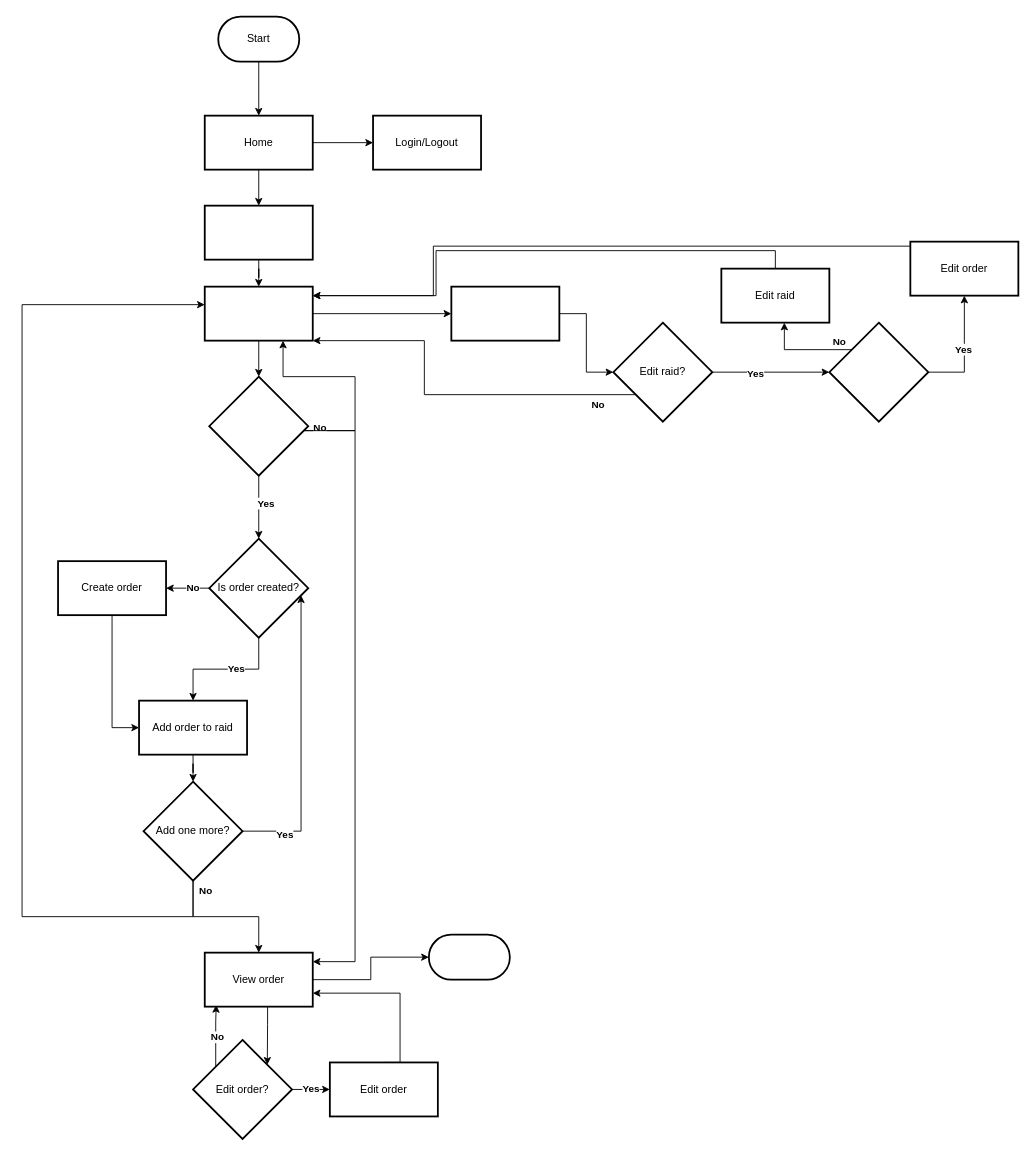
Some shapes in this 1035 by 1155 pixel diagram are drawn without their labels. Each missing label, with the centre of its shape:
"Add order to raid?" goes at (x=258, y=425).
"Edit order in raid?" goes at (x=878, y=371).
"End" goes at (x=469, y=956).
"Start raid" goes at (x=505, y=313).
"View raid" goes at (x=258, y=313).
"View schedule" goes at (x=258, y=232).
